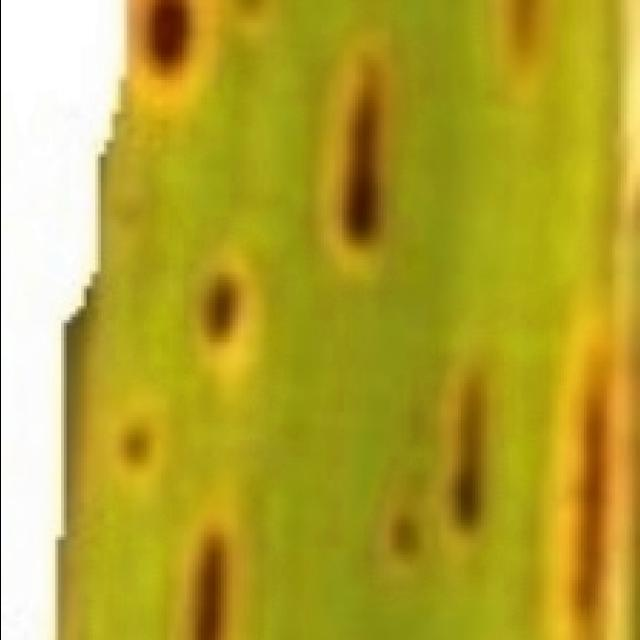Unhealthy: (543, 324, 640, 640), (323, 36, 397, 280), (428, 333, 503, 562), (168, 488, 253, 640), (128, 0, 224, 108), (191, 248, 257, 390), (496, 0, 568, 116), (106, 391, 170, 488), (369, 493, 426, 579)
